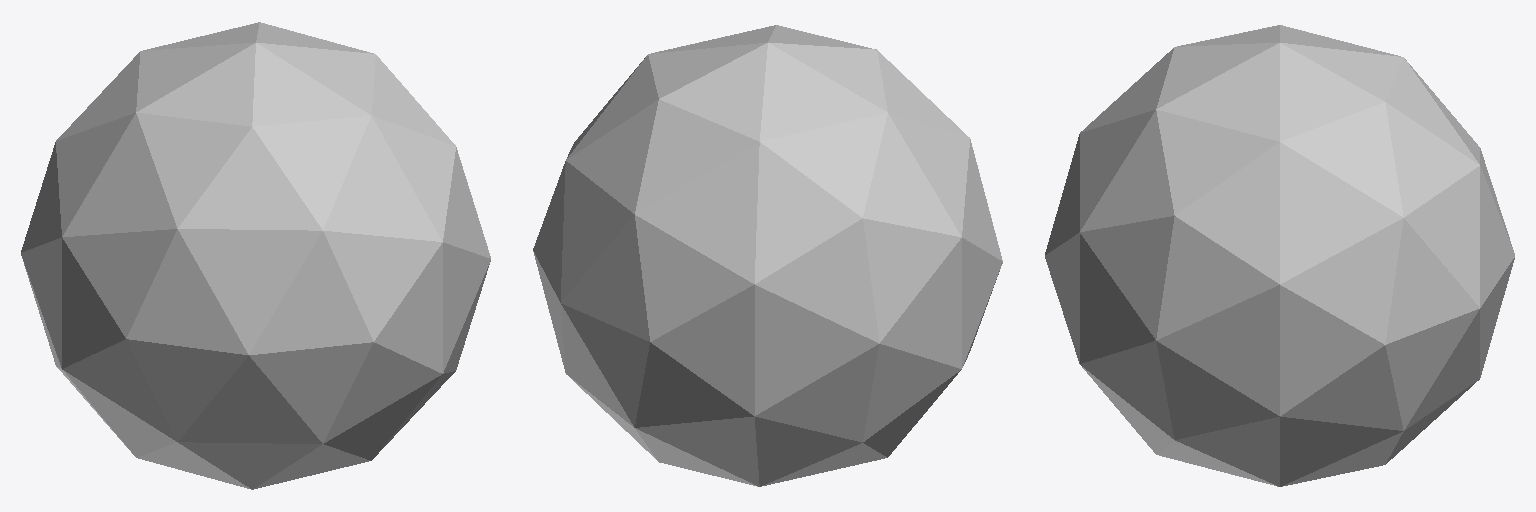
The model's file is ExportedObj;GameObject_0.obj.
3 views of the same model, side by side, from view 1: azimuth 30°, elevation 25°; view 2: azimuth 150°, elevation 25°; view 3: azimuth 270°, elevation 25° (orthographic).
Visible parts, largest first — view 1: GameObject; view 2: GameObject; view 3: GameObject.
Boxes of the visible parts, <box> form: GameObject: <box>21,22,490,489</box>; GameObject: <box>533,25,1002,486</box>; GameObject: <box>1045,25,1514,486</box>.
Size of the model in its own units: 1.9 by 2 by 2.